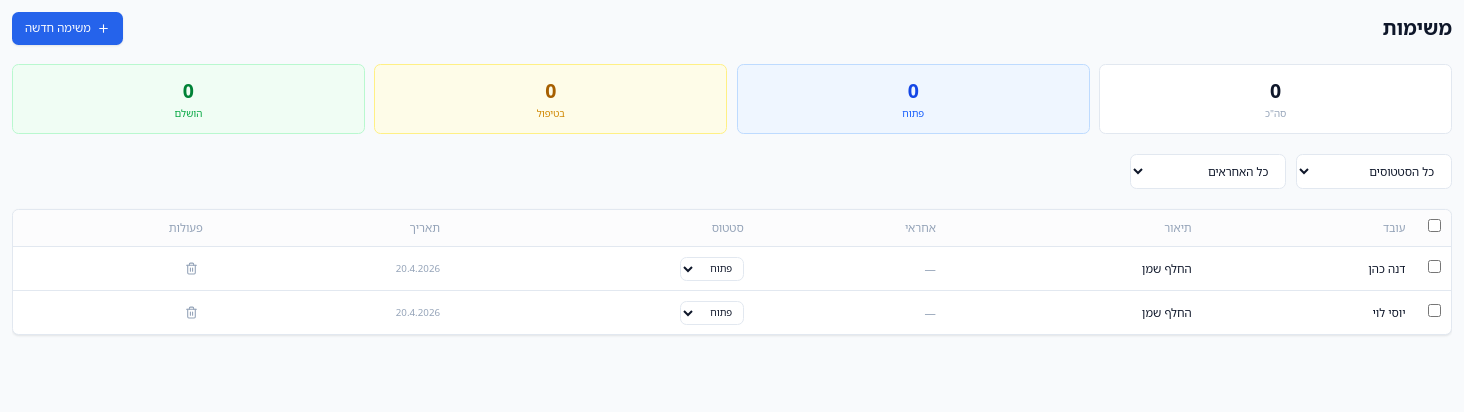
Test: TasksClient — selection UI › shows the bulk action bar with count when at least one row is selected
Click the checkbox named "בחר דנה כהן — החלף שמן": (1435, 267) 1428,260 -> 1441,273
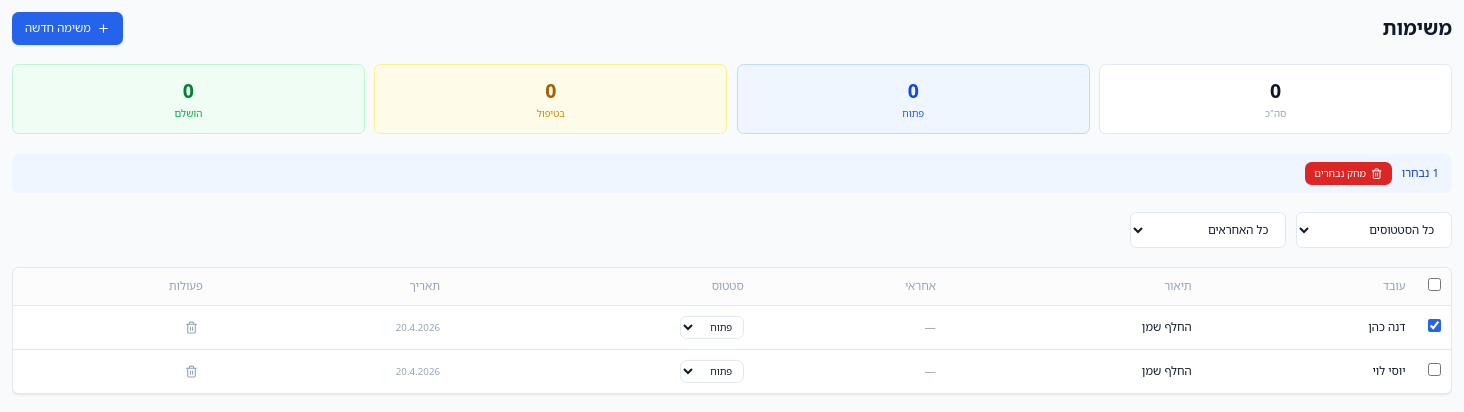
Now the text "1 נבחרו" is shown, box 1402,165 -> 1439,181
Click the checkbox named "בחר יוסי לוי — החלף שמן": (1435, 369) 1428,363 -> 1441,376
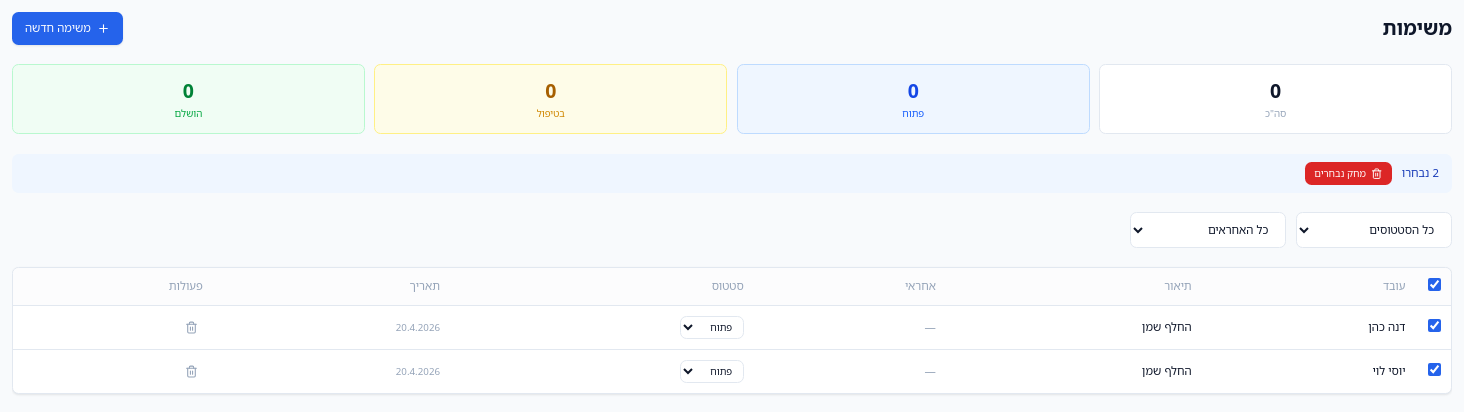
Now the button "מחק נבחרים" is shown, box 1304,162 -> 1392,185
Now the text "2 נבחרו" is shown, box 1402,165 -> 1439,181
